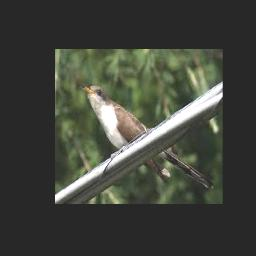Cuckoo: (81, 85, 213, 188)
